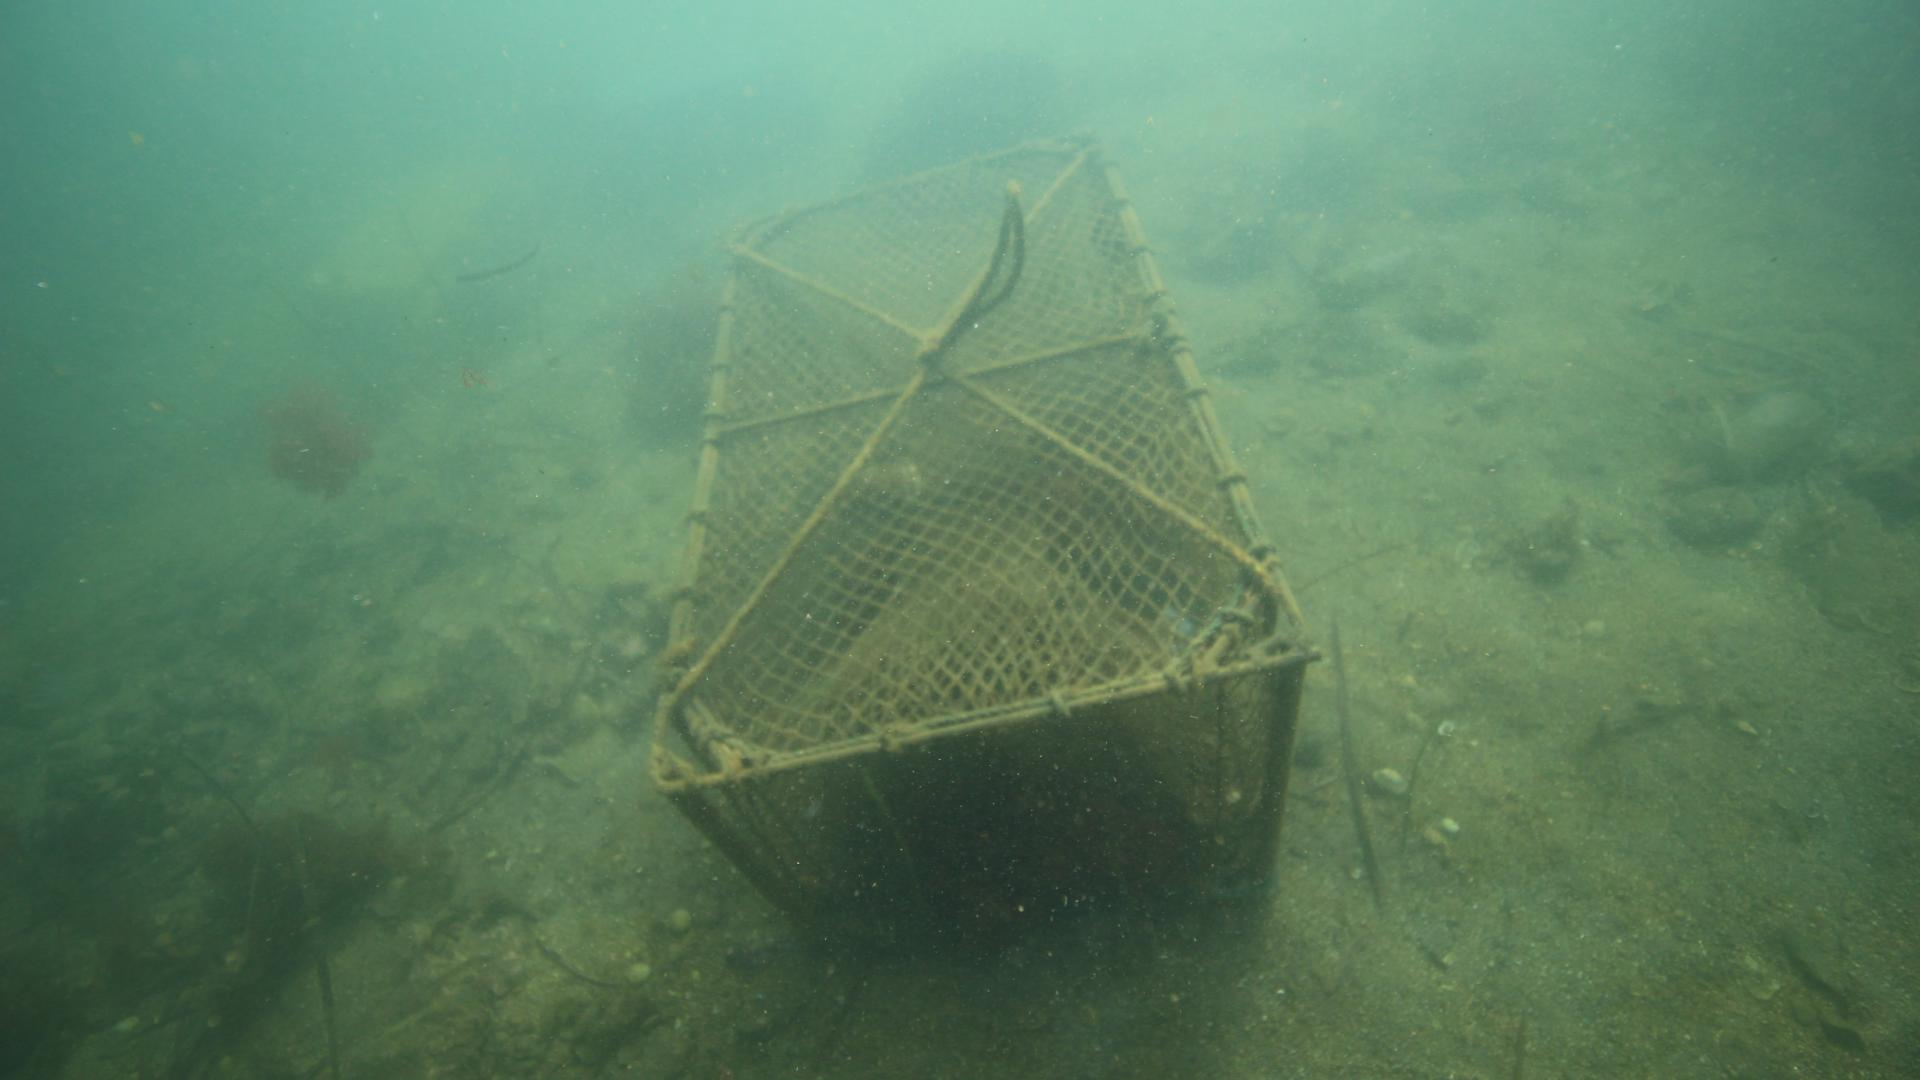rectangular fish trap: (640, 117, 1323, 984)
